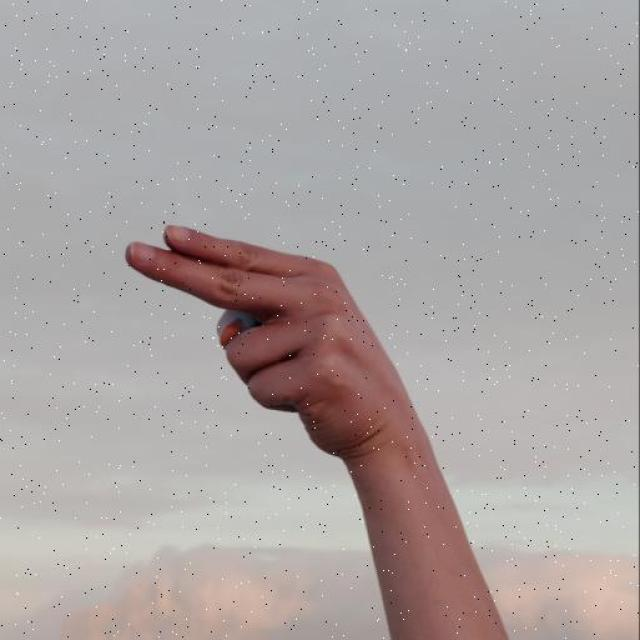H: (122, 217, 396, 475)
